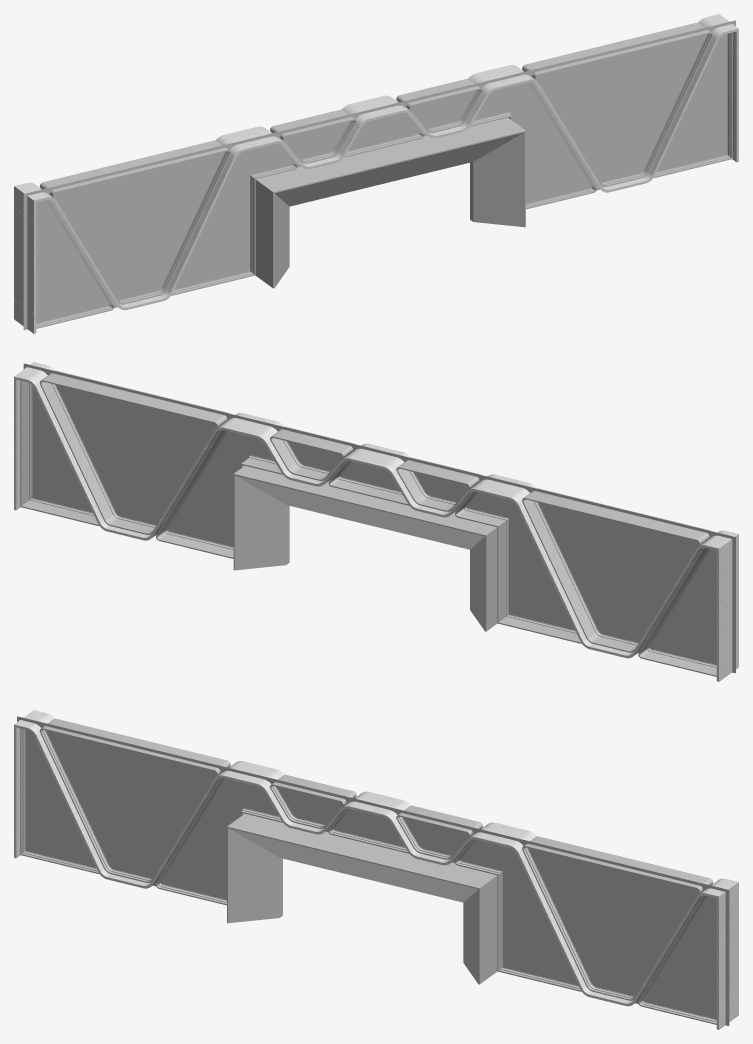
Rendered from M_W_011_Door_a.fbx.
3 views of the same model, one above another, from view 1: azimuth 30°, elevation 25°; view 2: azimuth 150°, elevation 25°; view 3: azimuth 330°, elevation 25° (orthographic).
Parts seen in each view (by area): view 1: M_W_011_Door_a_window, M_W_011_Door_a; view 2: M_W_011_Door_a, M_W_011_Door_a_window; view 3: M_W_011_Door_a_window, M_W_011_Door_a.
Boxes of the visible parts, <box> form: M_W_011_Door_a_window: <box>36,34,727,323</box>; M_W_011_Door_a: <box>14,14,738,333</box>; M_W_011_Door_a: <box>14,362,738,681</box>; M_W_011_Door_a_window: <box>32,385,716,664</box>; M_W_011_Door_a_window: <box>25,730,716,1019</box>; M_W_011_Door_a: <box>14,710,738,1029</box>.
Bounding box in the file's own units: 62 × 6 × 11.31.
